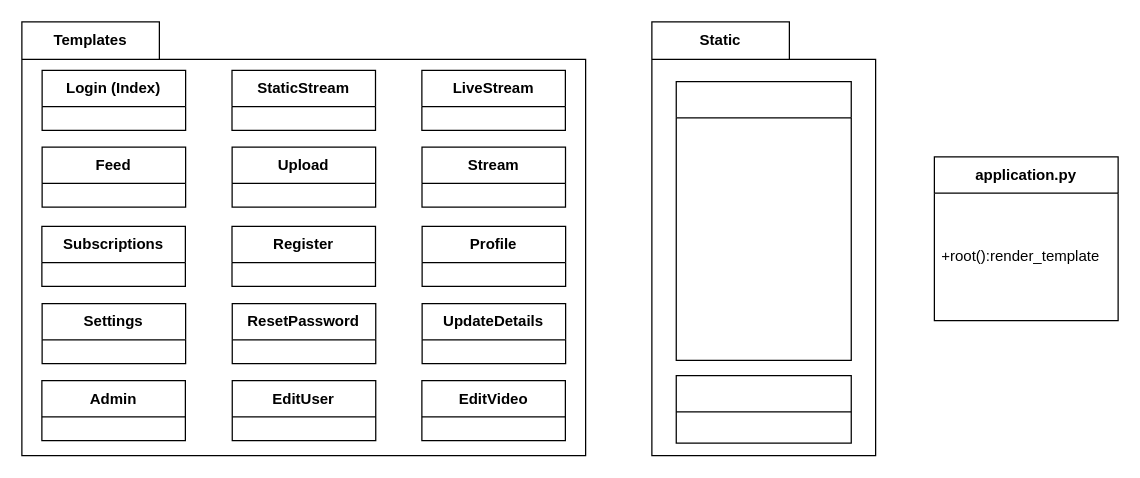
This 1140x478 diagram has some shape labels left out. The centre of each missing label's shape, as x and y in pixels:
"script.js" goes at point 763,220.
"style.css" goes at point 763,408.
